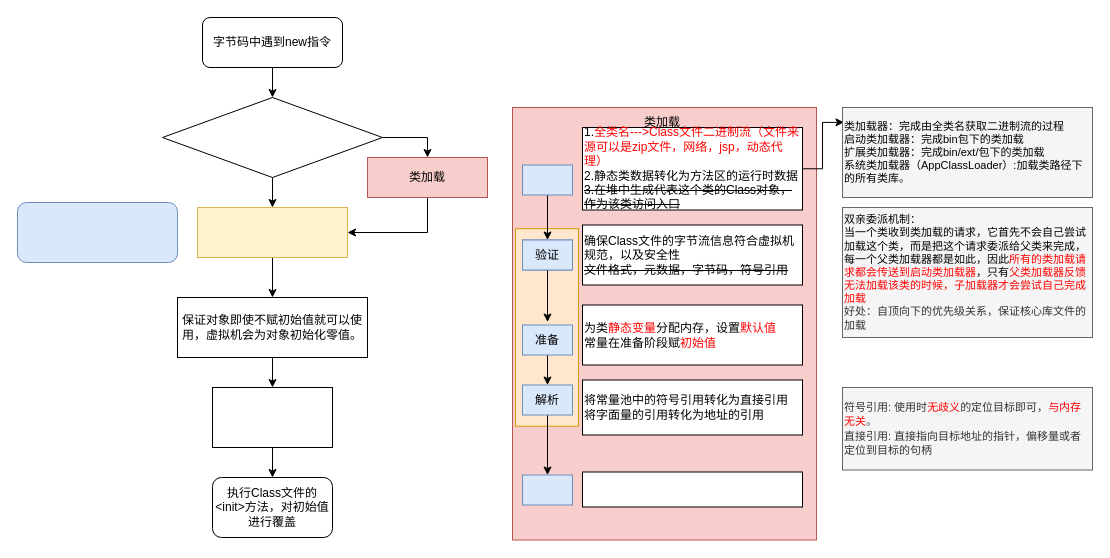
The diagram is 1110 pixels wide and 558 high, and some of its shapes have lost their labels. Here are the shapes that lost their labels. From the top down, the box of each, then its label:
(162, 96, 382, 178): 字符串常量池中能否对应到符号引用， 对应的类知否被加载
(522, 164, 572, 195): 加载
(16, 202, 178, 262): 牵扯到并发线程安全问题 1.指针更新CAS失败重试 2.Use TLAB
(196, 206, 348, 258): 为新生对象 分配内存 1.指针碰撞（标记整理） 2.空闲列表（标记清除）
(212, 386, 332, 448): 设置对象头：元数据信息，hashCode，GC信息，锁信息
(522, 474, 572, 505): 初始化
(582, 471, 802, 507): 执行 <clinit>函数将静态变量赋初始值
